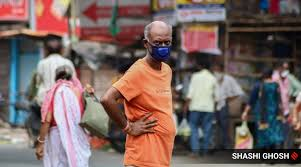mask: (145, 22, 171, 61)
